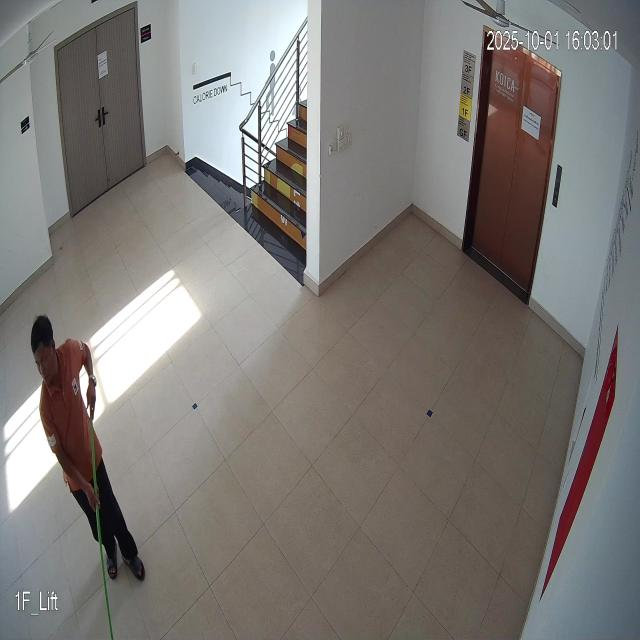face: (26, 306, 58, 393)
